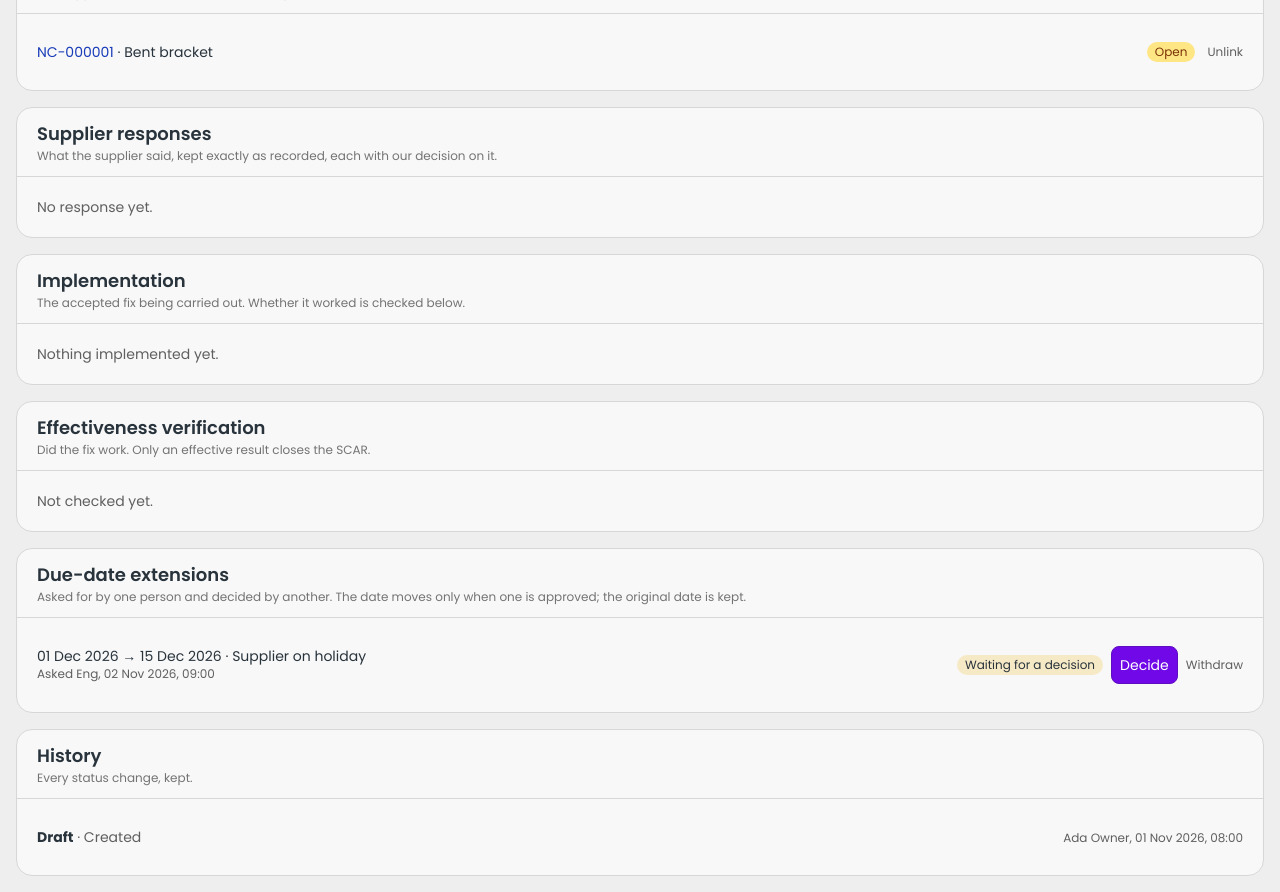
Scenario: SCAR page › an approver decides an extension with a note
(page scrolled)
Click the button "Decide": {"x": 1144, "y": 665} [1111, 646, 1178, 684]
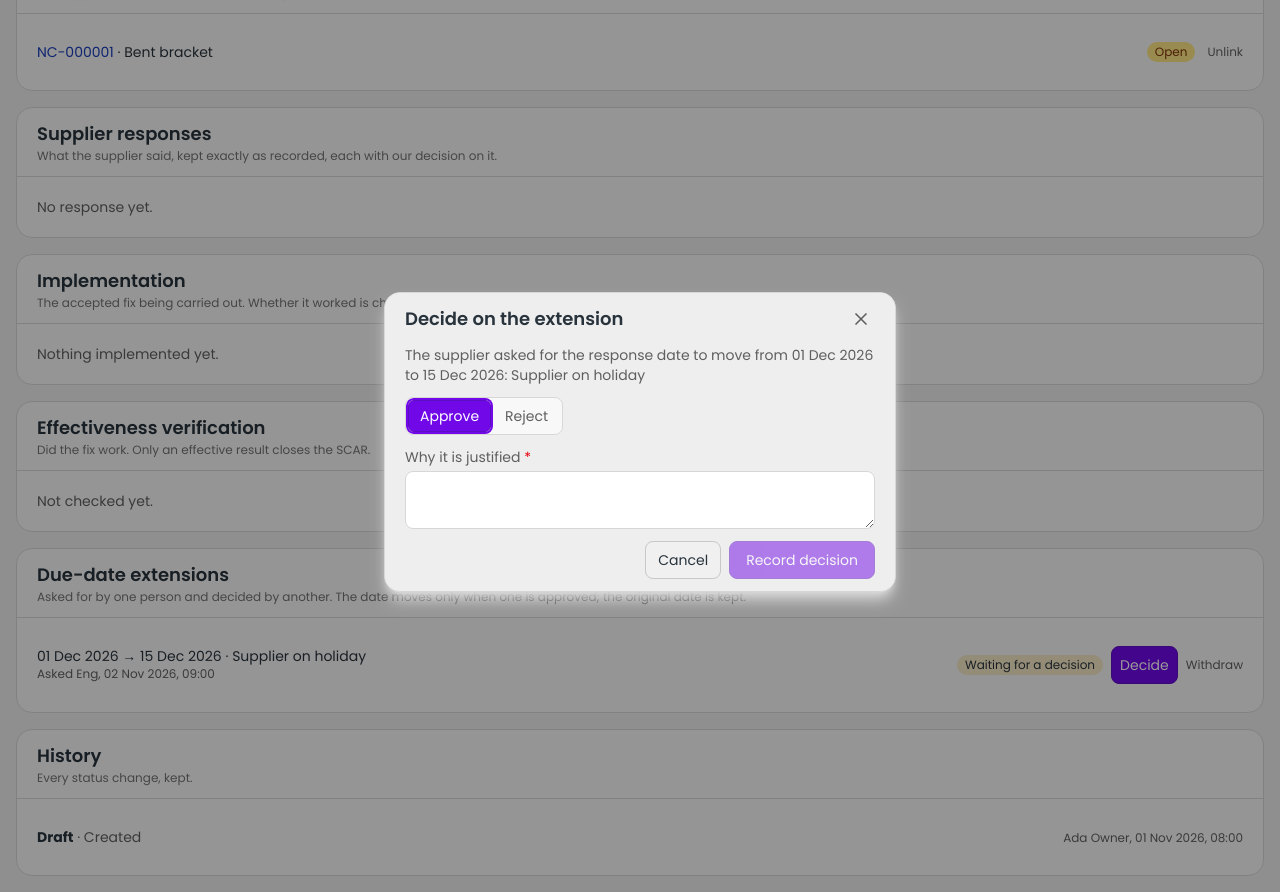
Now the button "Record decision" is disabled, box [729, 541, 875, 579]
In the text box labelled "Why it is justified": {"x": 640, "y": 500} [405, 471, 875, 529], type "Justified"
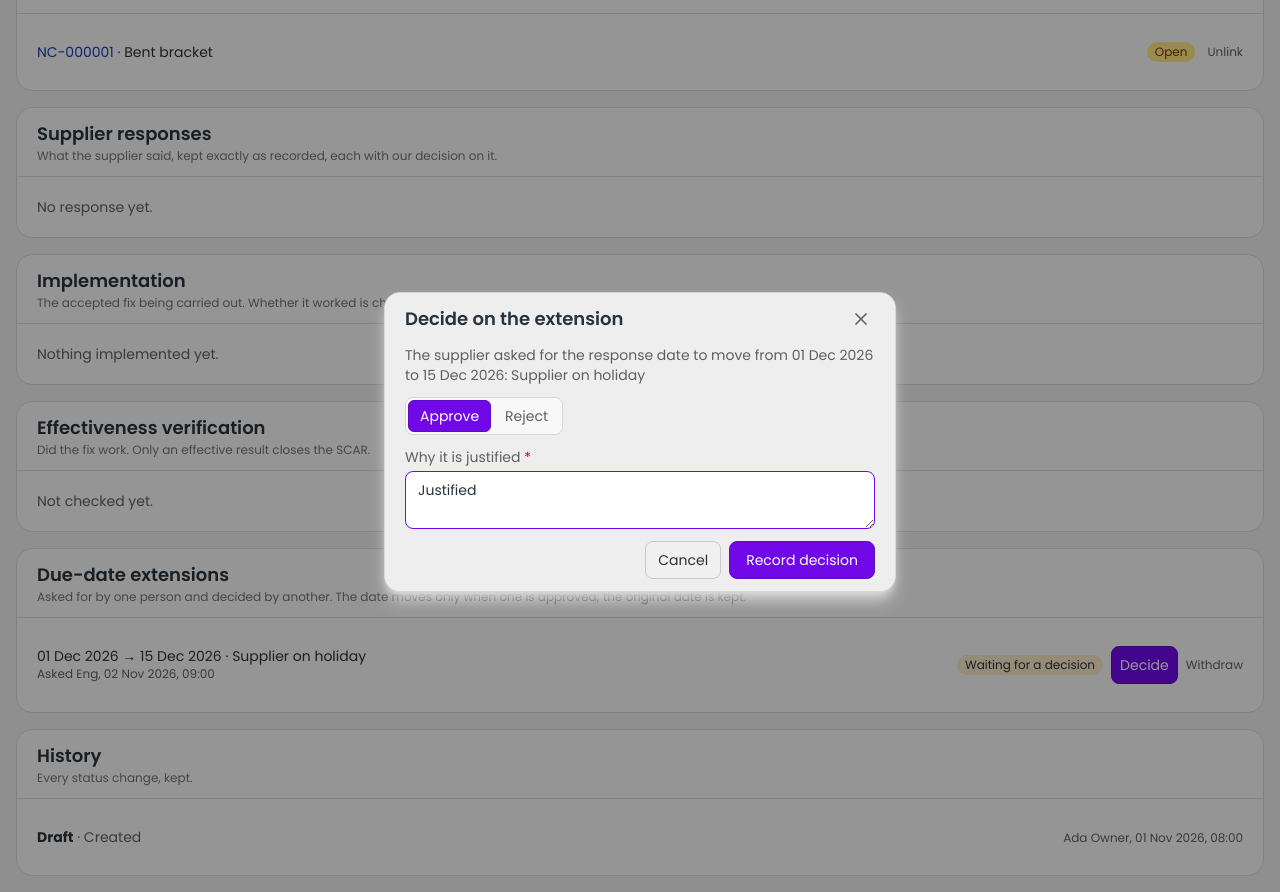
Click the button "Record decision": {"x": 802, "y": 560} [729, 541, 875, 579]
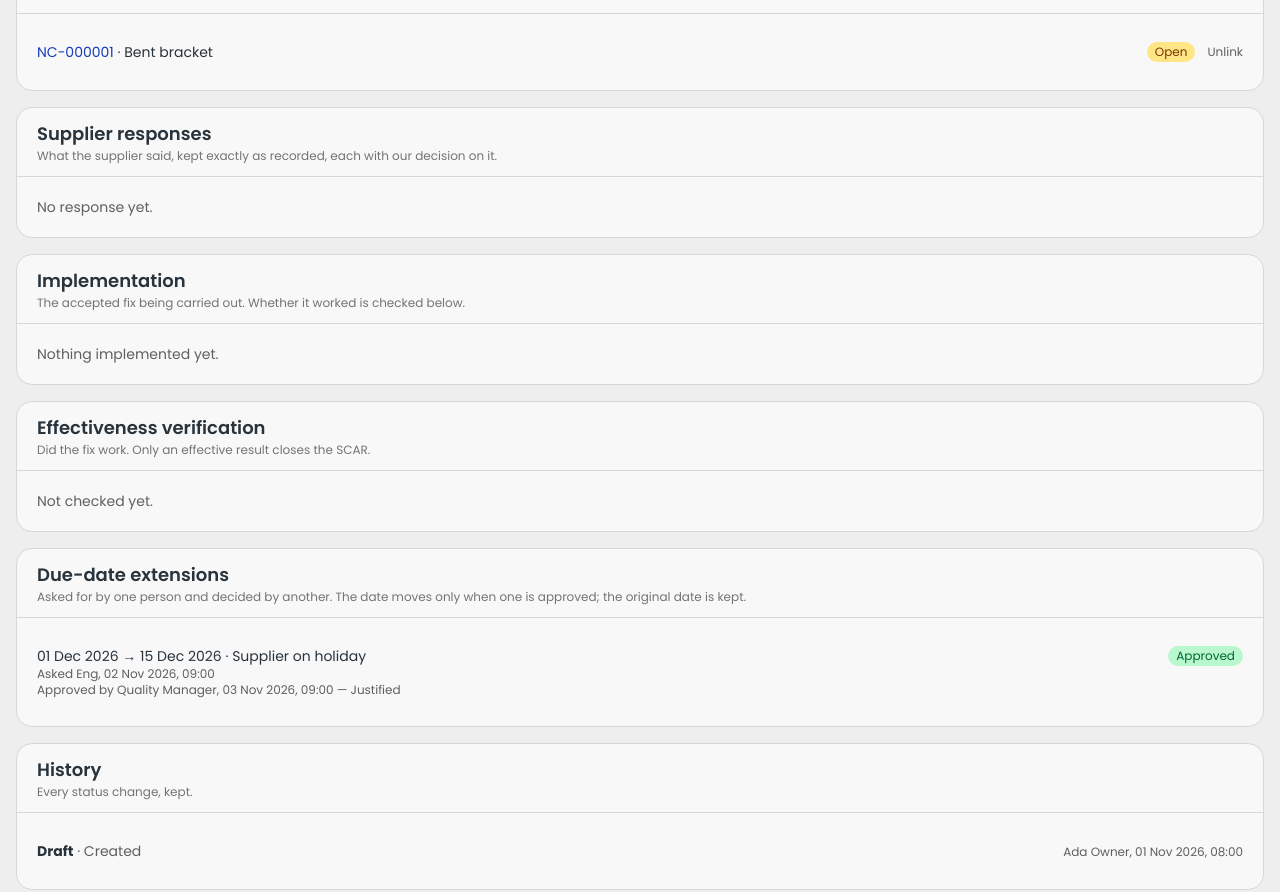
Now the text "Approved by Quality Manager, 03 Nov 2026, 09:00 — Justified" is shown, box [37, 682, 401, 698]
